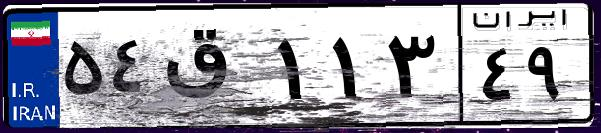1: (270, 28, 330, 110), (330, 28, 385, 110)
3: (385, 28, 445, 110)
4: (475, 38, 525, 113), (110, 28, 158, 98)
5: (57, 26, 110, 100)
9: (525, 38, 570, 115)
ق: (158, 20, 270, 120)
